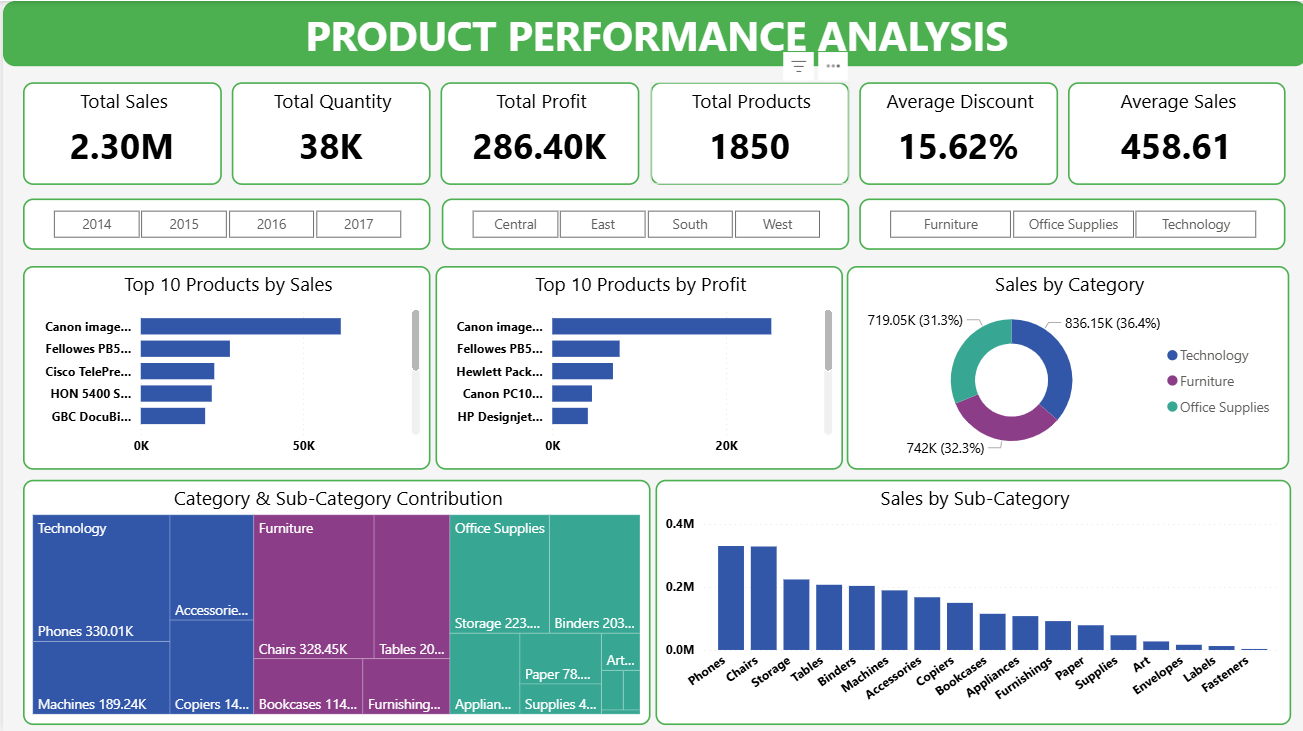

This screenshot's page, from the dashboard's own definition file:
{"tool":"powerbi","page":{"name":"Product Analysis","canvas":[1280,720],"ordinal":1},"visuals":[{"type":"textbox","title":"PRODUCT PERFORMANCE ANALYSIS","box":[0,0,1280,64],"z":0},{"type":"donutChart","title":"Sales by Category","fields":{"Category":["Sales.Category"],"Y":["Sales.Total Sales"]},"box":[828,260.1,434.4,200],"z":1000},{"type":"clusteredColumnChart","title":"Sales by Sub-Category","fields":{"Category":["Sales.Sub-Category"],"Y":["Sales.Total Sales"]},"box":[640,470,624,240.5],"z":2000},{"type":"clusteredBarChart","title":"Top 10 Products by Sales","fields":{"Category":["Sales.Product Name"],"Y":["Sales.Total Sales"]},"box":[20,260.1,400,200],"z":3000},{"type":"clusteredBarChart","title":"Top 10 Products by Profit","fields":{"Category":["Sales.Product Name"],"Y":["Sales.Total Profit"]},"box":[425,260.1,400,200],"z":4000},{"type":"treemap","title":"Category & Sub-Category Contribution","fields":{"Group":["Sales.Category"],"Details":["Sales.Sub-Category"],"Values":["Sales.Total Sales"]},"box":[20,470,616,240.5],"z":5000},{"type":"card","title":"Total Sales","fields":{"Values":["Sales.Total Sales"]},"box":[20,80,195,100.6],"z":6000},{"type":"card","title":"Total Profit","fields":{"Values":["Sales.Total Profit"]},"box":[430,80,195.1,100.6],"z":7000},{"type":"card","title":"Total Quantity","fields":{"Values":["Sales.Total Quantity"]},"box":[225,80,195.1,100.6],"z":8000},{"type":"card","title":"Total Products","fields":{"Values":["Sales.Total Products"]},"box":[635,80,195.1,100.6],"z":9000},{"type":"card","title":"Average Discount","fields":{"Values":["Sales.Average Discount"]},"box":[840,80,195,100.6],"z":10000},{"type":"card","title":"Average Sales","fields":{"Values":["Sales.Average Sale"]},"box":[1045,80,195.1,100.6],"z":11000},{"type":"slicer","fields":{"Values":["DateTable.Year"]},"box":[20,193.9,400,50.3],"z":12000},{"type":"slicer","fields":{"Values":["Sales.Region"]},"box":[430.7,193.9,400,50.3],"z":13000},{"type":"slicer","fields":{"Values":["Sales.Category"]},"box":[840.5,193.9,418.4,50.3],"z":14000}]}

Visuals, with their boxes in screenshot pixels (x1, y1, x2, y2), scaled from the page's 1280x720 canvas onto the 1303x731 screenshot:
"PRODUCT PERFORMANCE ANALYSIS" textbox: locate(0, 0, 1302, 65)
"Sales by Category" donutChart: locate(843, 264, 1285, 467)
"Sales by Sub-Category" clusteredColumnChart: locate(652, 477, 1287, 721)
"Top 10 Products by Sales" clusteredBarChart: locate(20, 264, 428, 467)
"Top 10 Products by Profit" clusteredBarChart: locate(433, 264, 840, 467)
"Category & Sub-Category Contribution" treemap: locate(20, 477, 647, 721)
"Total Sales" card: locate(20, 81, 219, 183)
"Total Profit" card: locate(438, 81, 636, 183)
"Total Quantity" card: locate(229, 81, 428, 183)
"Total Products" card: locate(646, 81, 845, 183)
"Average Discount" card: locate(855, 81, 1054, 183)
"Average Sales" card: locate(1064, 81, 1262, 183)
slicer - DateTable.Year: locate(20, 197, 428, 248)
slicer - Sales.Region: locate(438, 197, 846, 248)
slicer - Sales.Category: locate(856, 197, 1282, 248)
